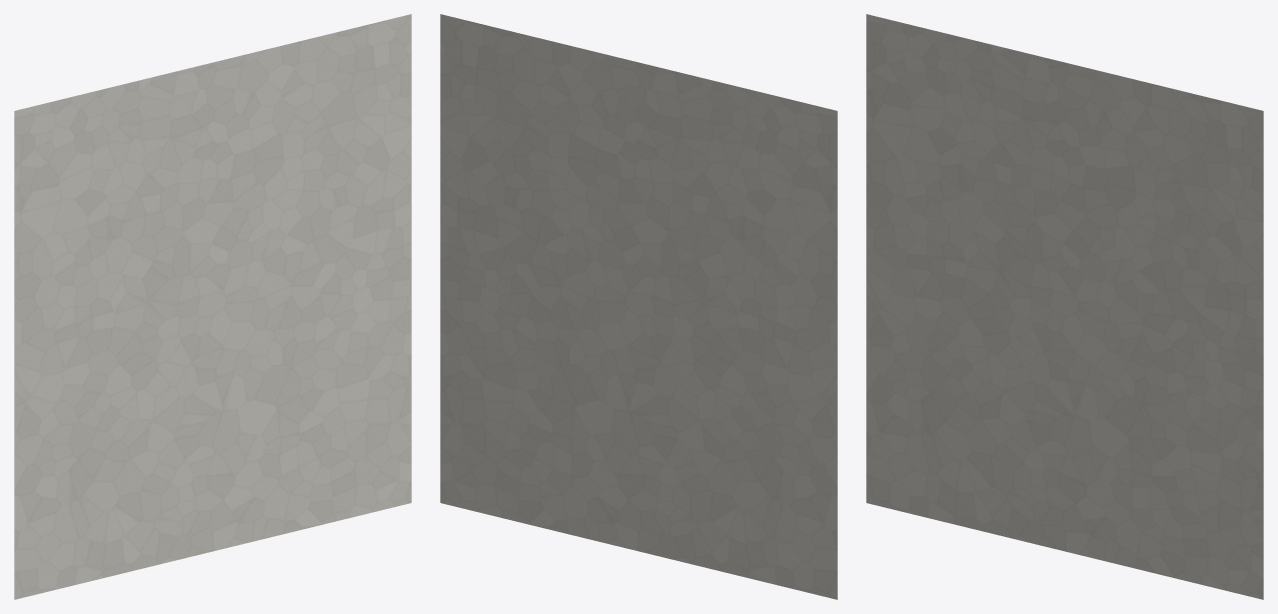
Rendered from casa_pedra.glb.
3 renders of one model, left to right at view 1: azimuth 30°, elevation 25°; view 2: azimuth 150°, elevation 25°; view 3: azimuth 330°, elevation 25°, orthographic.
Parts seen in each view (by area): view 1: ZONA_pedra; view 2: ZONA_pedra; view 3: ZONA_pedra.
Part boxes in pixels (x1,y1,x2,y2): ZONA_pedra: (14,14,411,599); ZONA_pedra: (440,14,837,599); ZONA_pedra: (866,14,1263,599).
Bounding box in the file's own units: 3.84 × 4.51 × 0.
1 material, 1 textured.
